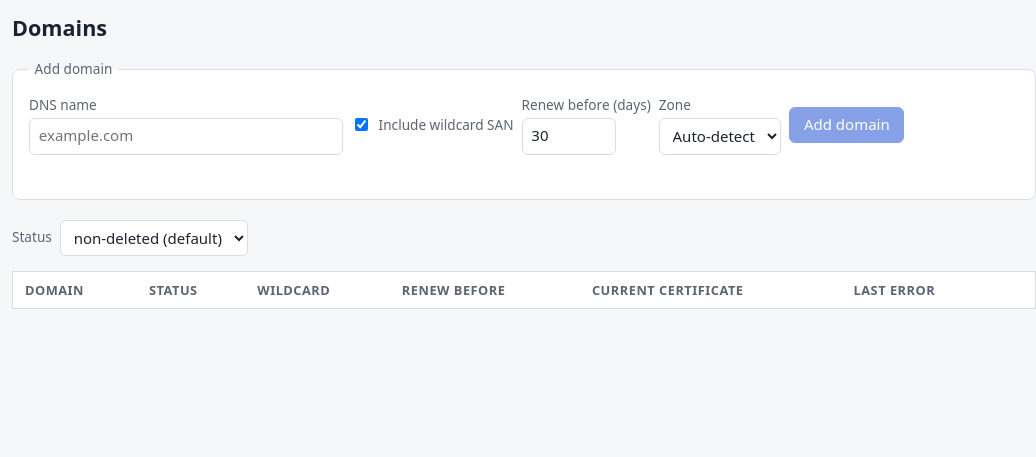
Test: domains view › surfaces server-side validation messages
The width and height of the screenshot is (1036, 457).
Step 1. Type "nope" into the field labelled "DNS name" → {"x": 186, "y": 136}, box 29,118 -> 343,154
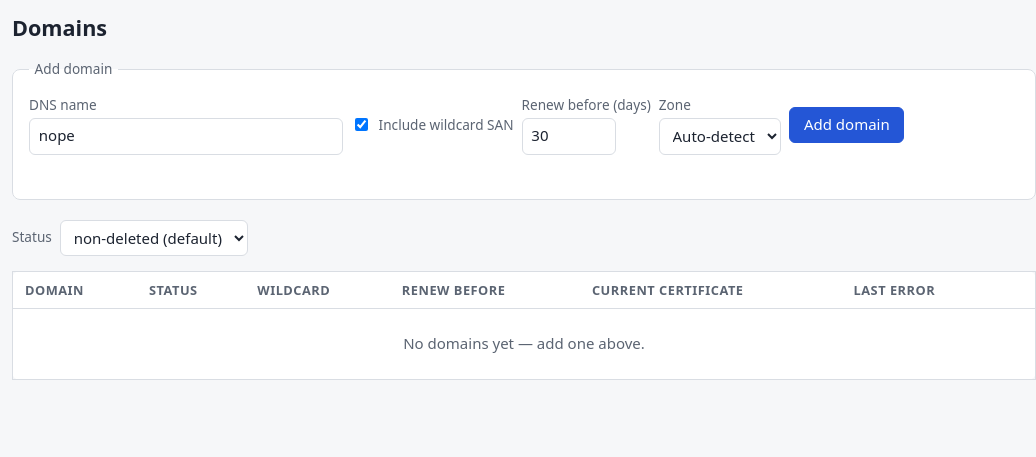
Step 2. Click the button "Add domain" → {"x": 847, "y": 125}, box 789,107 -> 904,143
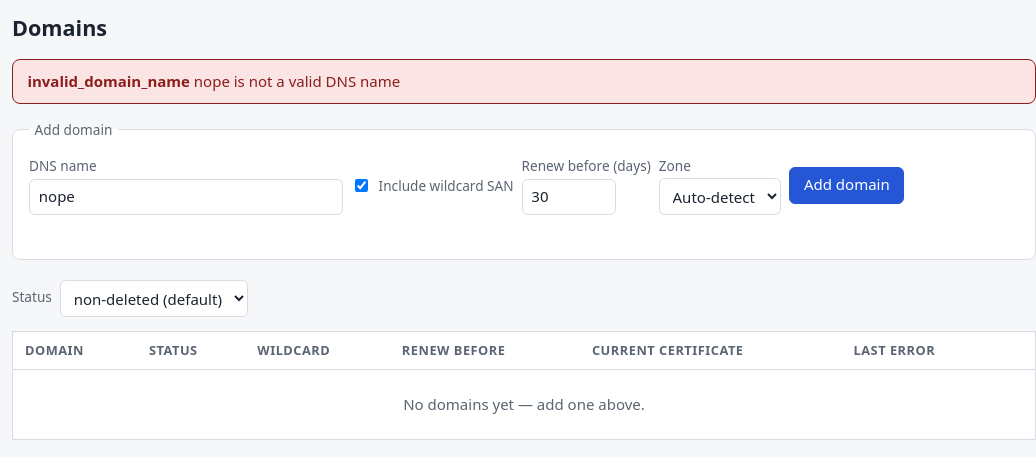
Check: the text "invalid_domain_name nope is not a valid DNS name" is shown, box 12,59 -> 1035,104
